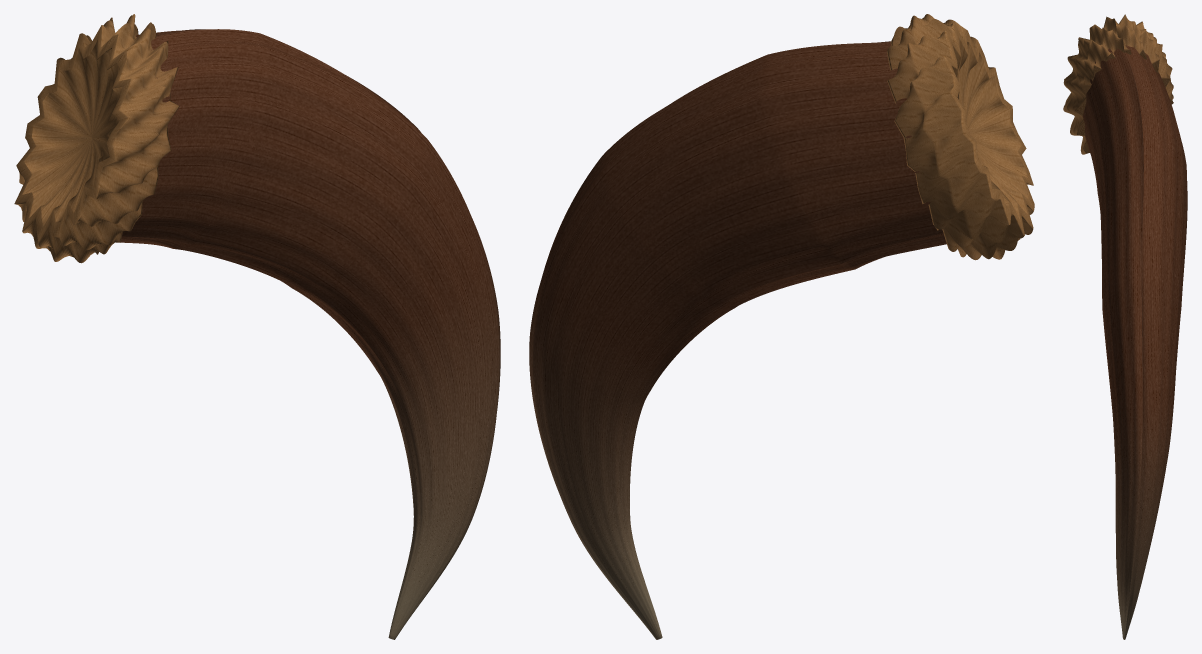
File: bear_claw.glb
3 views of the same model, side by side, from view 1: azimuth 30°, elevation 25°; view 2: azimuth 150°, elevation 25°; view 3: azimuth 270°, elevation 25° (orthographic). The views are drawn at different scales.
Visible parts, largest first — view 1: Dark chestnut claw keratin with worn grey tip, Ochre rough claw attachment; view 2: Dark chestnut claw keratin with worn grey tip, Ochre rough claw attachment; view 3: Dark chestnut claw keratin with worn grey tip, Ochre rough claw attachment.
Part boxes in pixels (x1,y1,x2,y2): Dark chestnut claw keratin with worn grey tip: (116, 29, 500, 639); Ochre rough claw attachment: (14, 14, 179, 263); Dark chestnut claw keratin with worn grey tip: (529, 41, 946, 639); Ochre rough claw attachment: (887, 14, 1034, 260); Dark chestnut claw keratin with worn grey tip: (1082, 45, 1187, 639); Ochre rough claw attachment: (1063, 14, 1173, 154).
Bounding box in the file's own units: 0.1459 × 0.1975 × 0.0427.
2 materials, 2 textured.
